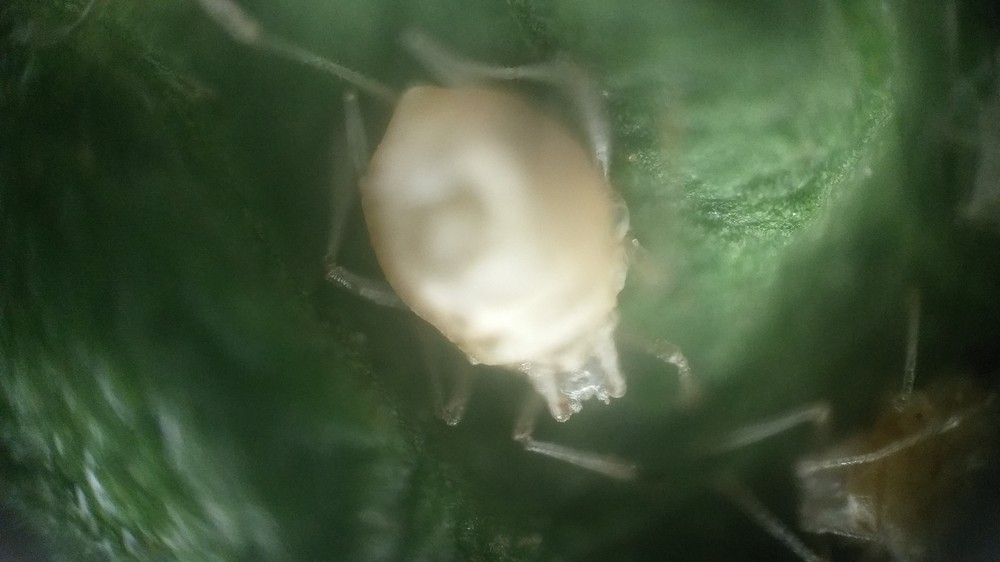Pulgon: (299, 41, 729, 495)
